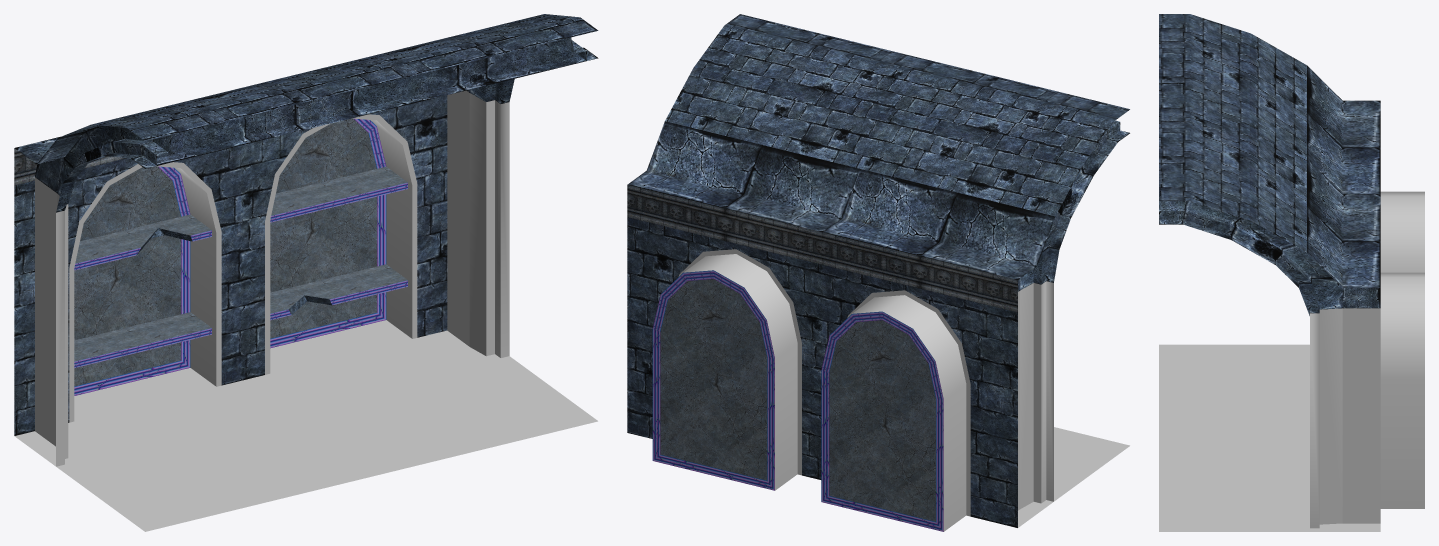
The model's file is Wall1Update.FBX.
3 views of the same model, side by side, from view 1: azimuth 30°, elevation 25°; view 2: azimuth 150°, elevation 25°; view 3: azimuth 270°, elevation 25° (orthographic). The views are drawn at different scales.
Visible parts, largest first — view 1: wall_1; view 2: wall_1; view 3: wall_1.
Boxes of the visible parts, x1=… form: wall_1: x1=14, y1=14, x2=598, y2=531; wall_1: x1=627, y1=14, x2=1129, y2=531; wall_1: x1=1159, y1=14, x2=1424, y2=531.
Size of the model in its own units: 91.85 by 75.6 by 55.06.
